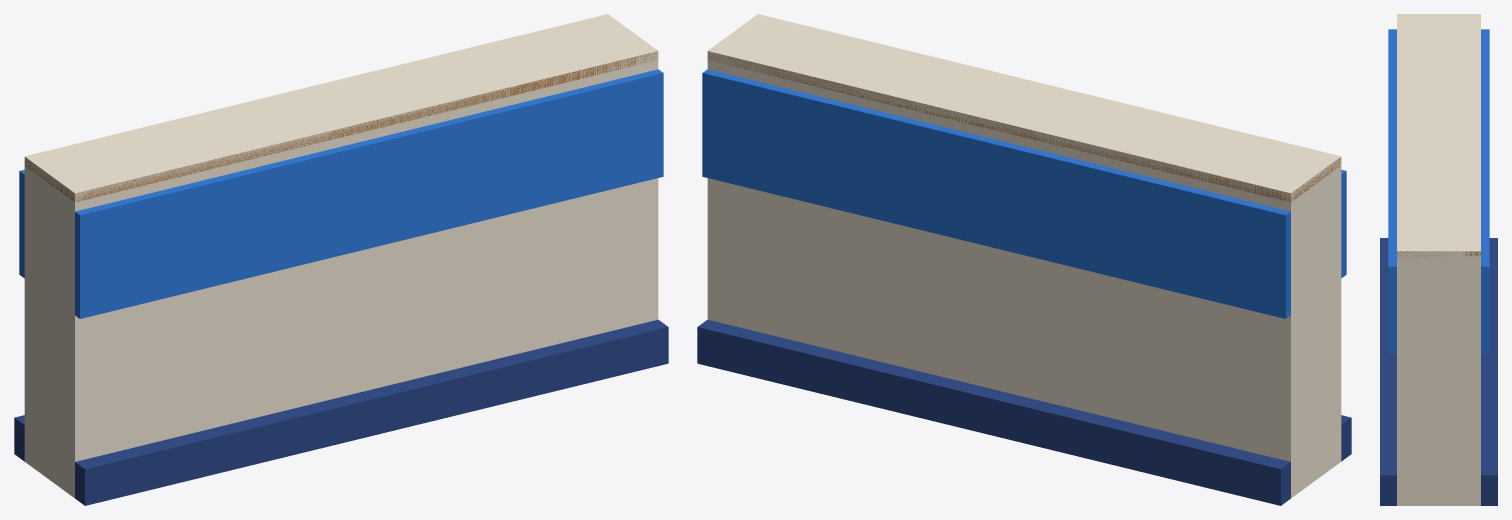
Rendered from partition.glb.
3 renders of one model, left to right at view 1: azimuth 30°, elevation 25°; view 2: azimuth 150°, elevation 25°; view 3: azimuth 270°, elevation 25°, orthographic. The views are drawn at different scales.
Parts seen in each view (by area): view 1: partition; view 2: partition; view 3: partition.
Part boxes in pixels (<box>): partition: <box>14,14,668,505</box>; partition: <box>697,14,1351,505</box>; partition: <box>1380,14,1497,505</box>.
Bounding box in the file's own units: 1 × 0.5 × 0.21.
1 material, 1 textured.
